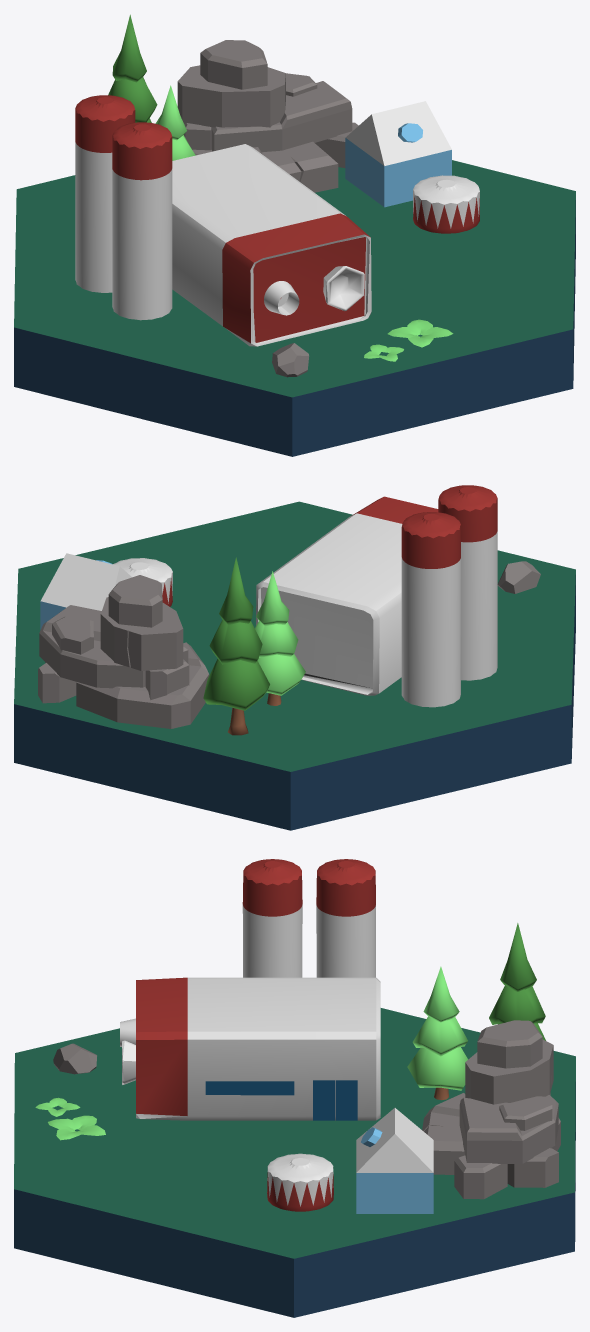
File: Macro - Electric lvl 2 WM1.fbx
The picture shows the model from 3 angles, top to bottom: view 1: azimuth 30°, elevation 25°; view 2: azimuth 150°, elevation 25°; view 3: azimuth 270°, elevation 25°; orthographic projection.
Parts seen in each view (by area): view 1: Cylinder.154, Cube battery.011, Rock Type1 02 mesh.013, Cylinder battery.004, milkbox1.011, Cylinder battery.005, Cylinder battery.001, Tree_Spruce_tiny_01.002, Tree_Spruce_tiny_01.001, Rock Type2 04 mesh.005, Plane.011; view 2: Cylinder.154, Cube battery.011, Rock Type1 02 mesh.013, Cylinder battery.005, Cylinder battery.004, Tree_Spruce_tiny_01.002, Tree_Spruce_tiny_01.001, milkbox1.011, Cylinder battery.001, Rock Type2 04 mesh.005; view 3: Cylinder.154, Cube battery.011, Rock Type1 02 mesh.013, milkbox1.011, Cylinder battery.004, Cylinder battery.005, Tree_Spruce_tiny_01.001, Cylinder battery.001, Tree_Spruce_tiny_01.002, Plane.002, Rock Type2 04 mesh.005, Plane.001 (+2 smaller).
Boxes of the visible parts, x1,y1,x2,y2 form: Cylinder.154: (14,160,575,456); Cube battery.011: (172,144,371,346); Rock Type1 02 mesh.013: (177,40,358,192); Cylinder battery.004: (112,122,172,320); milkbox1.011: (345,101,451,207); Cylinder battery.005: (75,95,135,292); Cylinder battery.001: (413,175,479,233); Tree_Spruce_tiny_01.002: (108,14,157,122); Tree_Spruce_tiny_01.001: (155,85,195,160); Rock Type2 04 mesh.005: (272,343,309,377); Plane.011: (387,319,453,347); Cylinder.154: (14,501,575,830); Cube battery.011: (256,496,438,695); Rock Type1 02 mesh.013: (38,575,209,728); Cylinder battery.005: (401,512,460,707); Cylinder battery.004: (438,485,497,680); Tree_Spruce_tiny_01.002: (203,557,269,735); Tree_Spruce_tiny_01.001: (254,571,305,705); milkbox1.011: (40,553,131,629); Cylinder battery.001: (113,558,172,606); Rock Type2 04 mesh.005: (497,561,540,593); Cylinder.154: (14,1008,575,1317); Cube battery.011: (120,977,380,1120); Rock Type1 02 mesh.013: (422,1020,560,1199); milkbox1.011: (356,1108,433,1213); Cylinder battery.004: (242,859,302,977); Cylinder battery.005: (316,859,375,977); Tree_Spruce_tiny_01.001: (407,966,467,1100); Cylinder battery.001: (267,1153,333,1211); Tree_Spruce_tiny_01.002: (489,923,545,1040); Plane.002: (205,1081,294,1095); Rock Type2 04 mesh.005: (53,1043,96,1074); Plane.001: (335,1080,357,1120).
Bounding box in the file's own units: 197 × 80.5 × 172.
